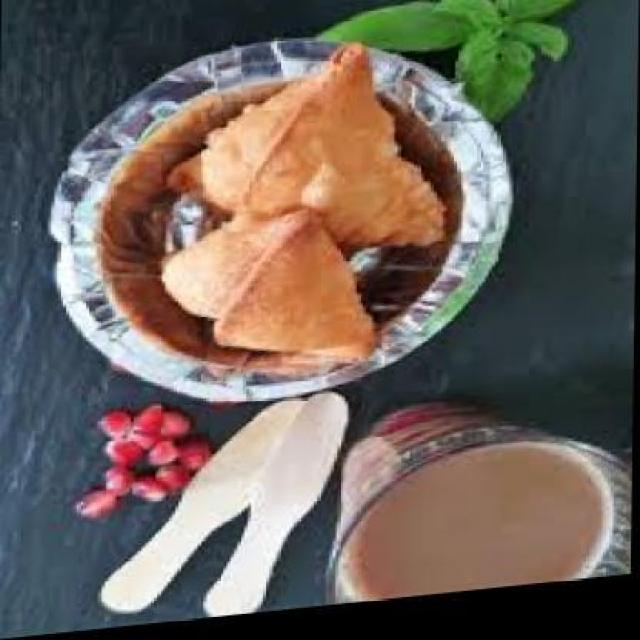samosa: (162, 40, 444, 275), (160, 209, 377, 385)
